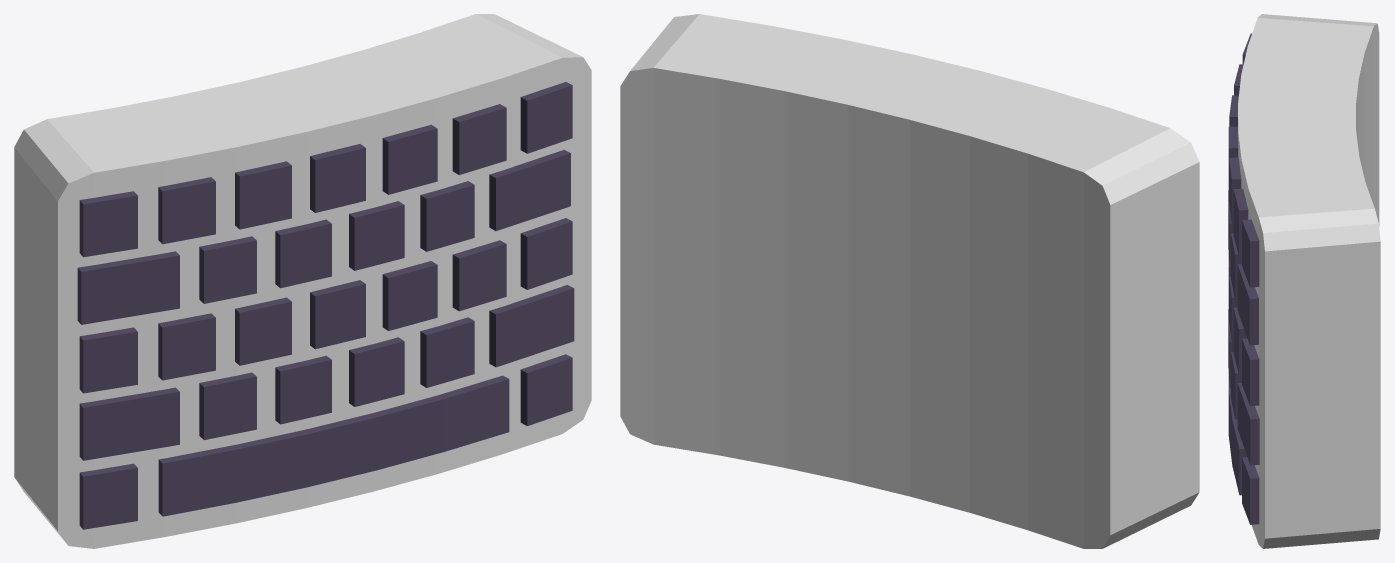
Rendered from Keyboard_Outer.fbx.
3 views of the same model, side by side, from view 1: azimuth 30°, elevation 25°; view 2: azimuth 150°, elevation 25°; view 3: azimuth 270°, elevation 25° (orthographic). The views are drawn at different scales.
Parts seen in each view (by area): view 1: Keyboard_Outer; view 2: Keyboard_Outer; view 3: Keyboard_Outer.
Part boxes in pixels (box(x1,y1,x2,y2)): Keyboard_Outer: box(14, 14, 591, 548); Keyboard_Outer: box(620, 14, 1199, 548); Keyboard_Outer: box(1228, 14, 1380, 548).
Size of the model in its own units: 33.74 by 22.68 by 9.55.
